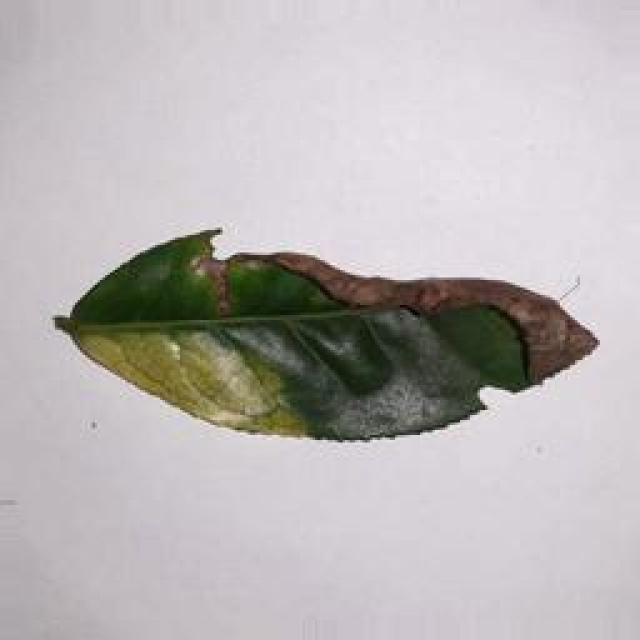Brown Blight: (28, 216, 610, 455)
